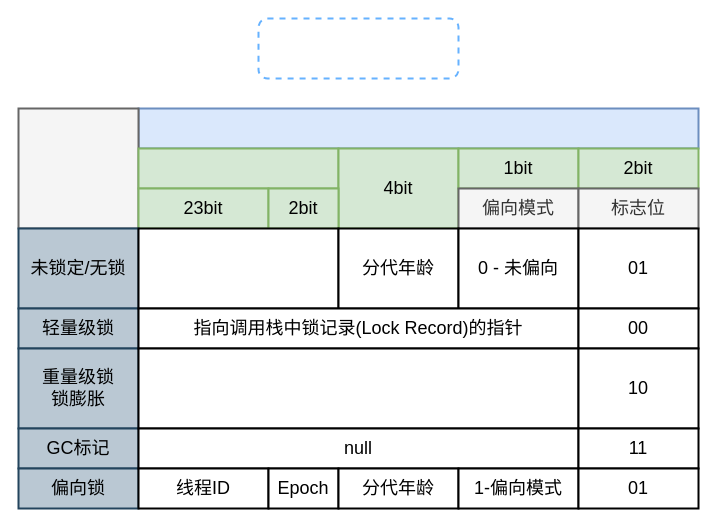
This 716x526 diagram has some shape labels left out. Here are the shapes that lost their labels. From the top down, the centre of each, then its label:
At pixel 358 48: "Mark Word".
At pixel 418 128: "32bit".
At pixel 78 168: "锁状态".
At pixel 238 168: "25bit".
At pixel 238 268: "对象的 HashCode".
At pixel 358 388: "指向重量级锁的指针".
